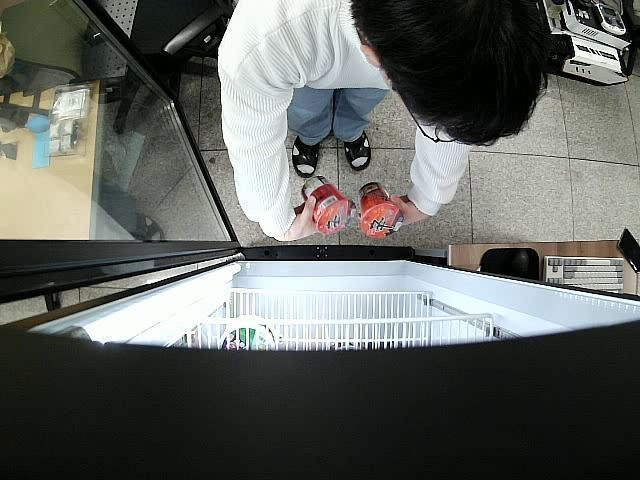02_shinRamen_S: (302, 176, 356, 235), (359, 182, 406, 242)
